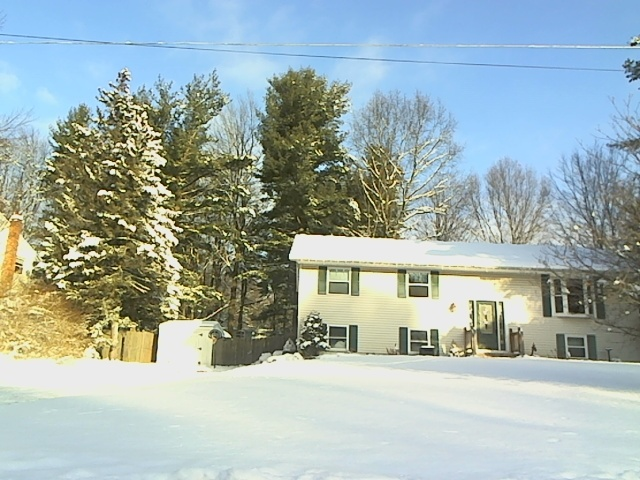Unploughed: (471, 305, 526, 447)
